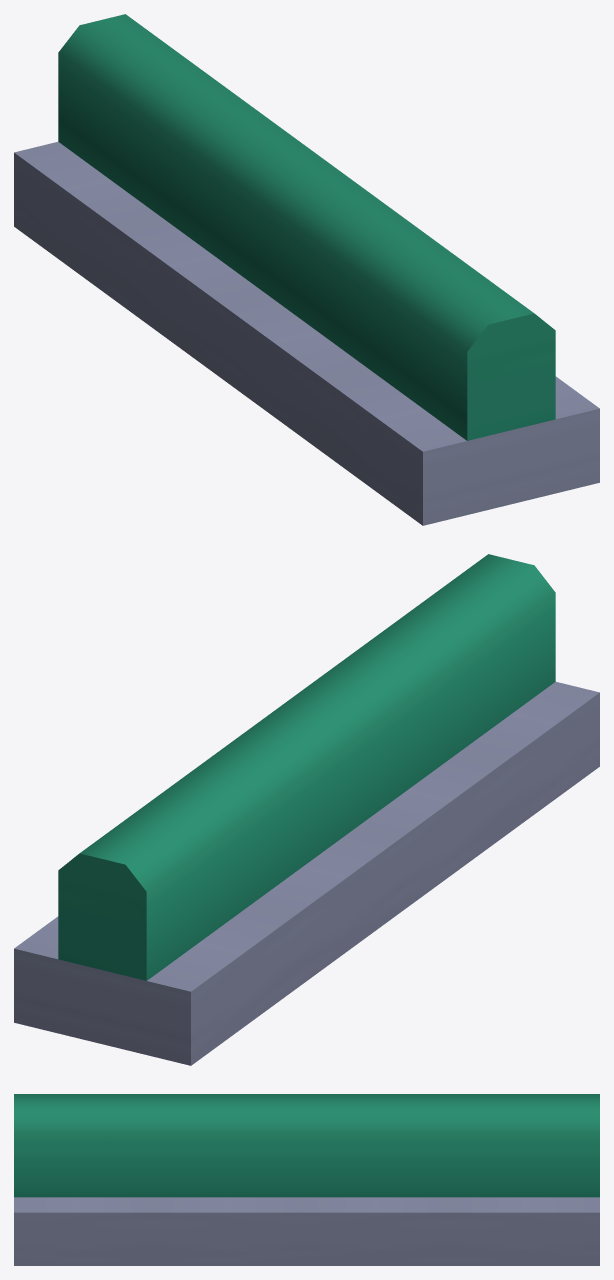
The model's file is hedge.fbx.
3 renders of one model, top to bottom at view 1: azimuth 30°, elevation 25°; view 2: azimuth 150°, elevation 25°; view 3: azimuth 270°, elevation 25°, orthographic. The views are drawn at different scales.
Parts seen in each view (by area): view 1: hedge; view 2: hedge; view 3: hedge.
Part boxes in pixels (bbox=[...]): hedge: bbox=[14, 14, 599, 525]; hedge: bbox=[14, 554, 599, 1065]; hedge: bbox=[14, 1094, 599, 1265].
Size of the model in its own units: 0.25 by 1 by 0.25.
